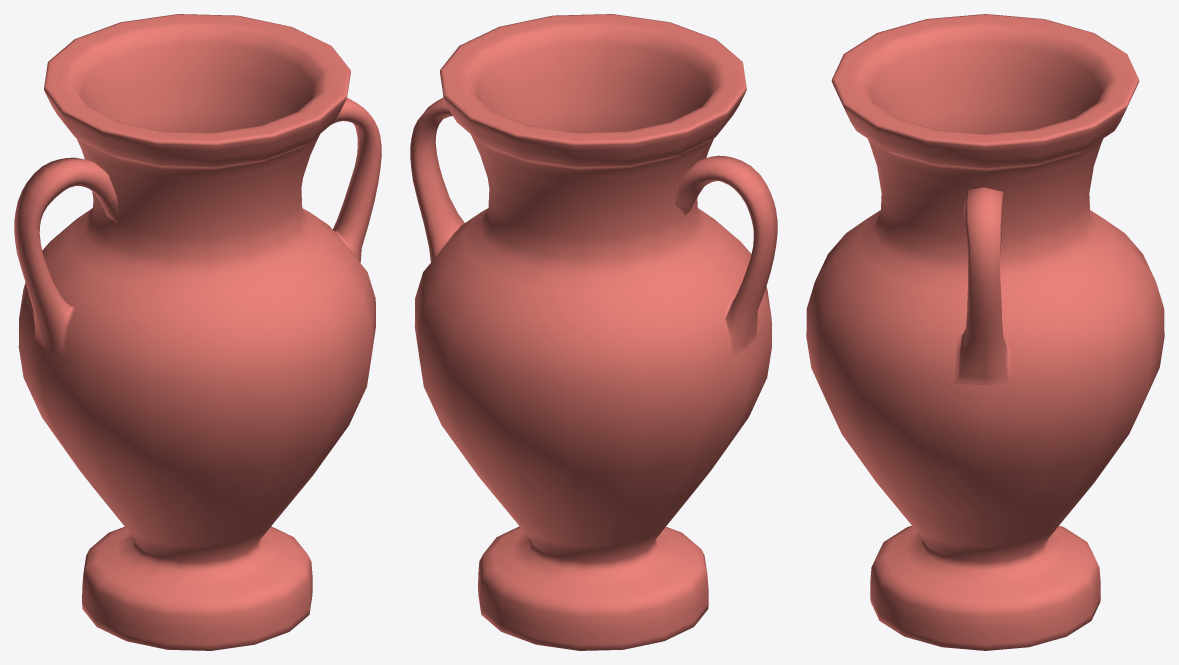
Rendered from lowpoly.fbx.
3 renders of one model, left to right at view 1: azimuth 30°, elevation 25°; view 2: azimuth 150°, elevation 25°; view 3: azimuth 270°, elevation 25°, orthographic.
Parts seen in each view (by area): view 1: Cylinder; view 2: Cylinder; view 3: Cylinder.
Boxes of the visible parts, <box> form: Cylinder: <box>14,14,381,650</box>; Cylinder: <box>410,14,777,650</box>; Cylinder: <box>806,14,1164,650</box>.
Size of the model in its own units: 39.39 by 55.28 by 34.19.
